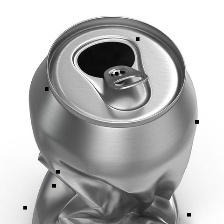can: (16, 13, 211, 224)
